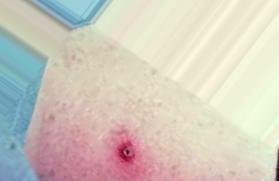Spider: (105, 129, 154, 181)
